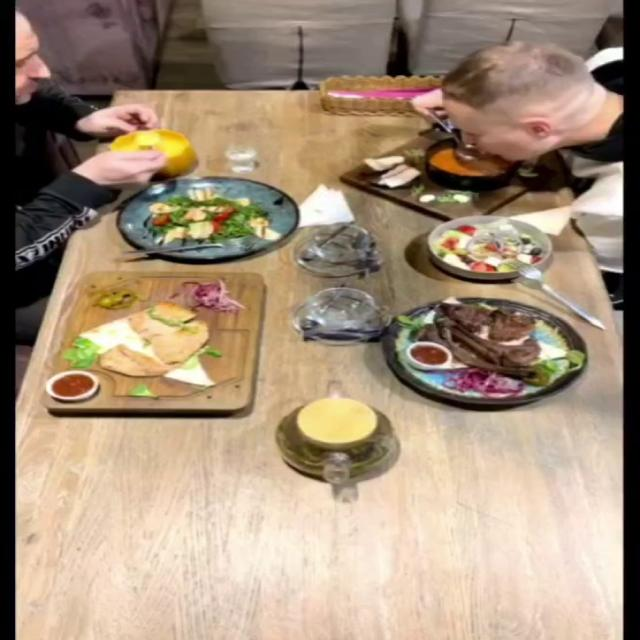alcohol: (202, 119, 267, 182)
meat: (379, 296, 589, 405)
salat: (115, 177, 298, 260), (426, 214, 554, 279)
soup: (338, 135, 568, 223), (108, 129, 197, 178)
tea: (273, 396, 397, 480)
